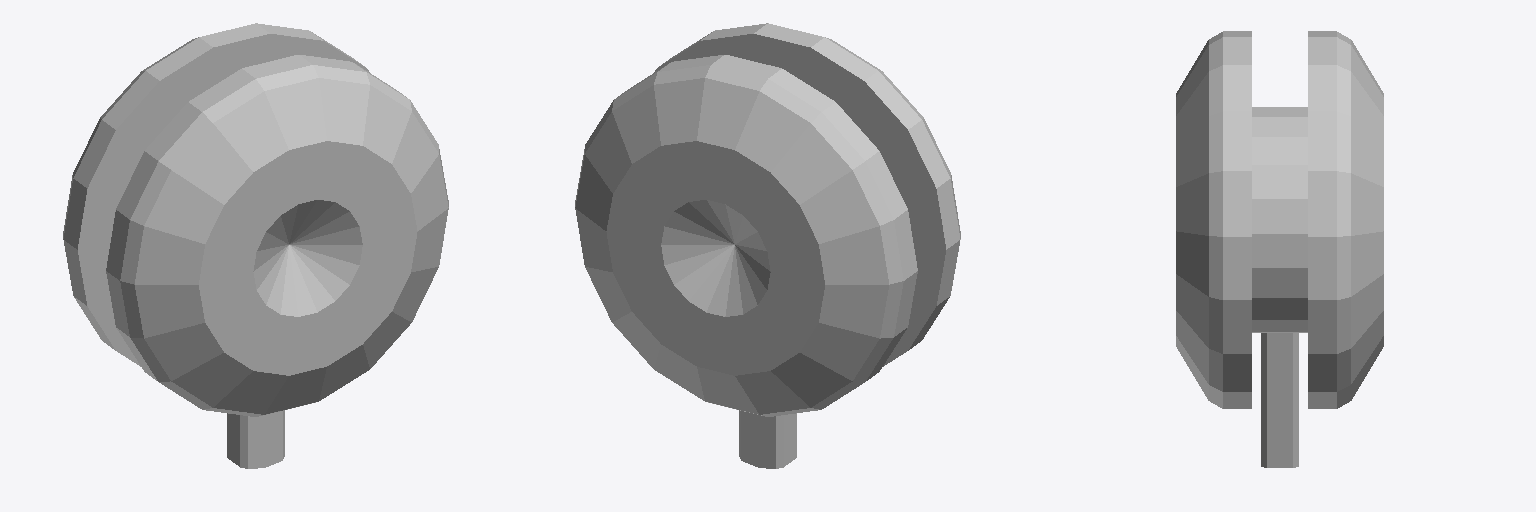
File: Basic_Enemy.obj
The picture shows the model from 3 angles: view 1: azimuth 30°, elevation 25°; view 2: azimuth 150°, elevation 25°; view 3: azimuth 270°, elevation 25°; orthographic projection.
Parts seen in each view (by area): view 1: Enemy_Ship_Hull, Enemy_Ship_Turret; view 2: Enemy_Ship_Hull, Enemy_Ship_Turret; view 3: Enemy_Ship_Hull, Enemy_Ship_Turret.
Part boxes in pixels (x1,y1,x2,y2): Enemy_Ship_Hull: (63,23,448,416); Enemy_Ship_Turret: (227,410,284,468); Enemy_Ship_Hull: (575,23,960,416); Enemy_Ship_Turret: (739,410,796,468); Enemy_Ship_Hull: (1176,31,1383,408); Enemy_Ship_Turret: (1252,107,1307,467).
Size of the model in its own units: 2.59 by 3.09 by 1.42.